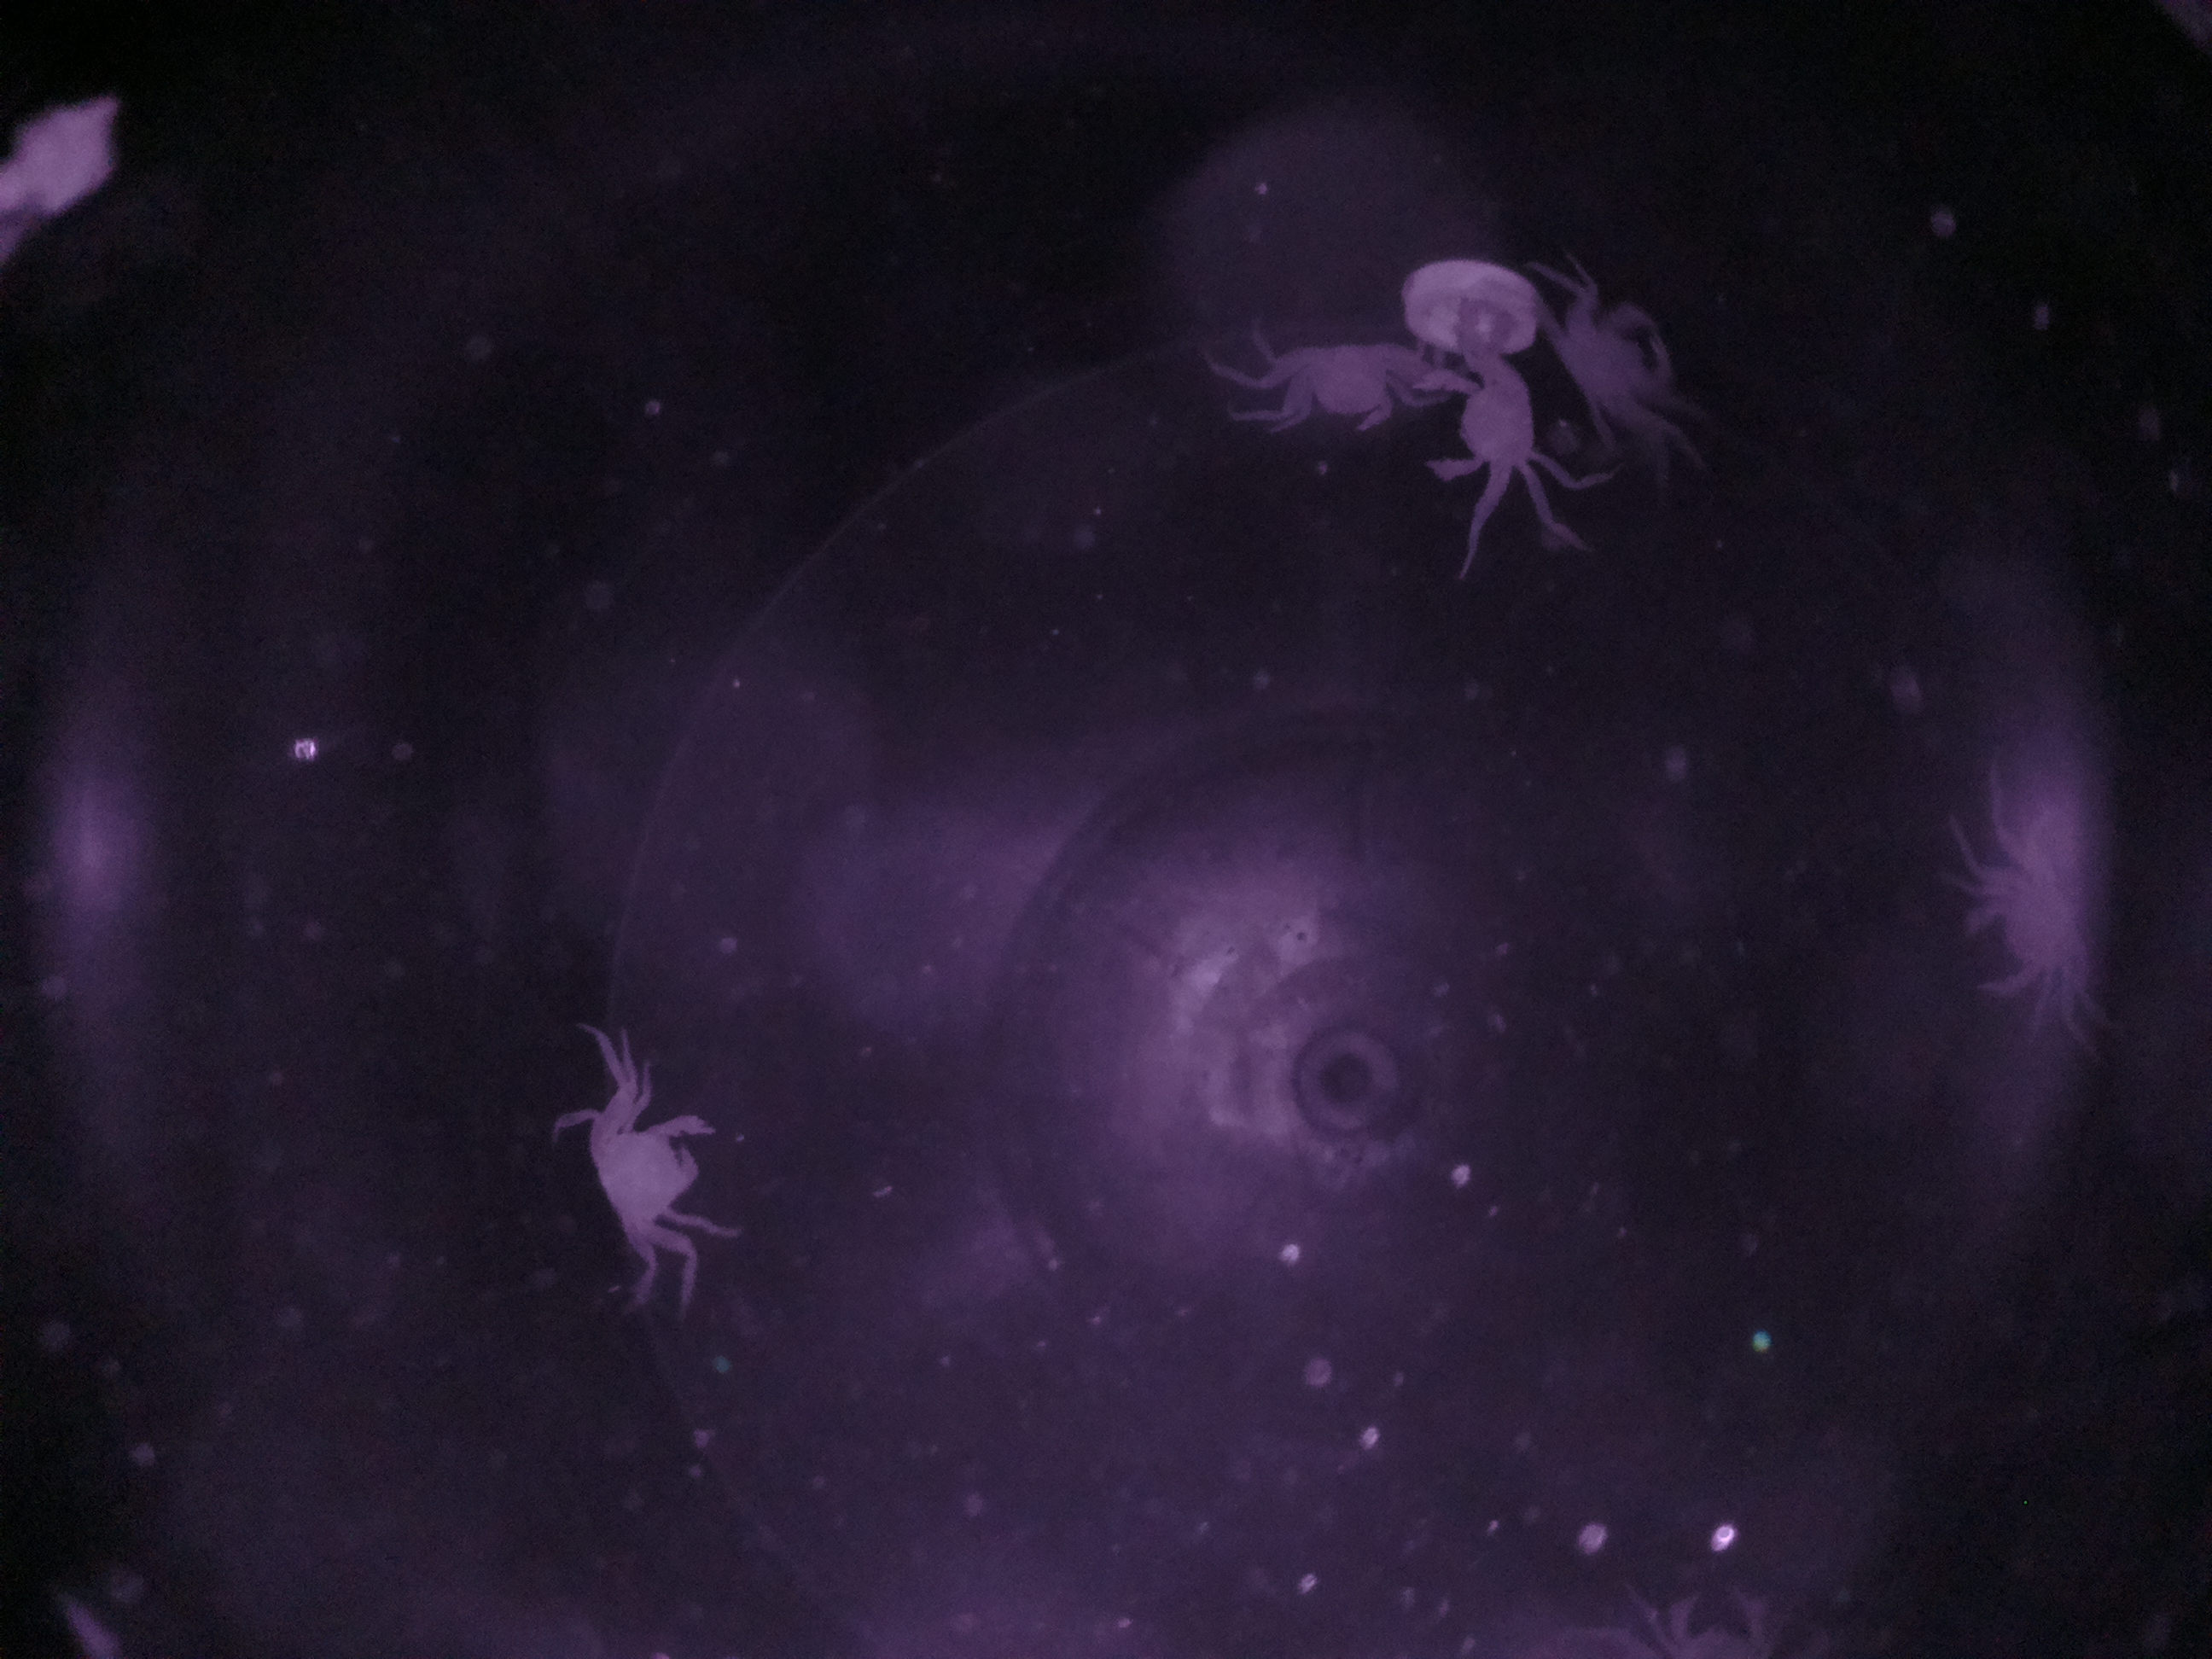Crab: (557, 1072, 723, 1263)
